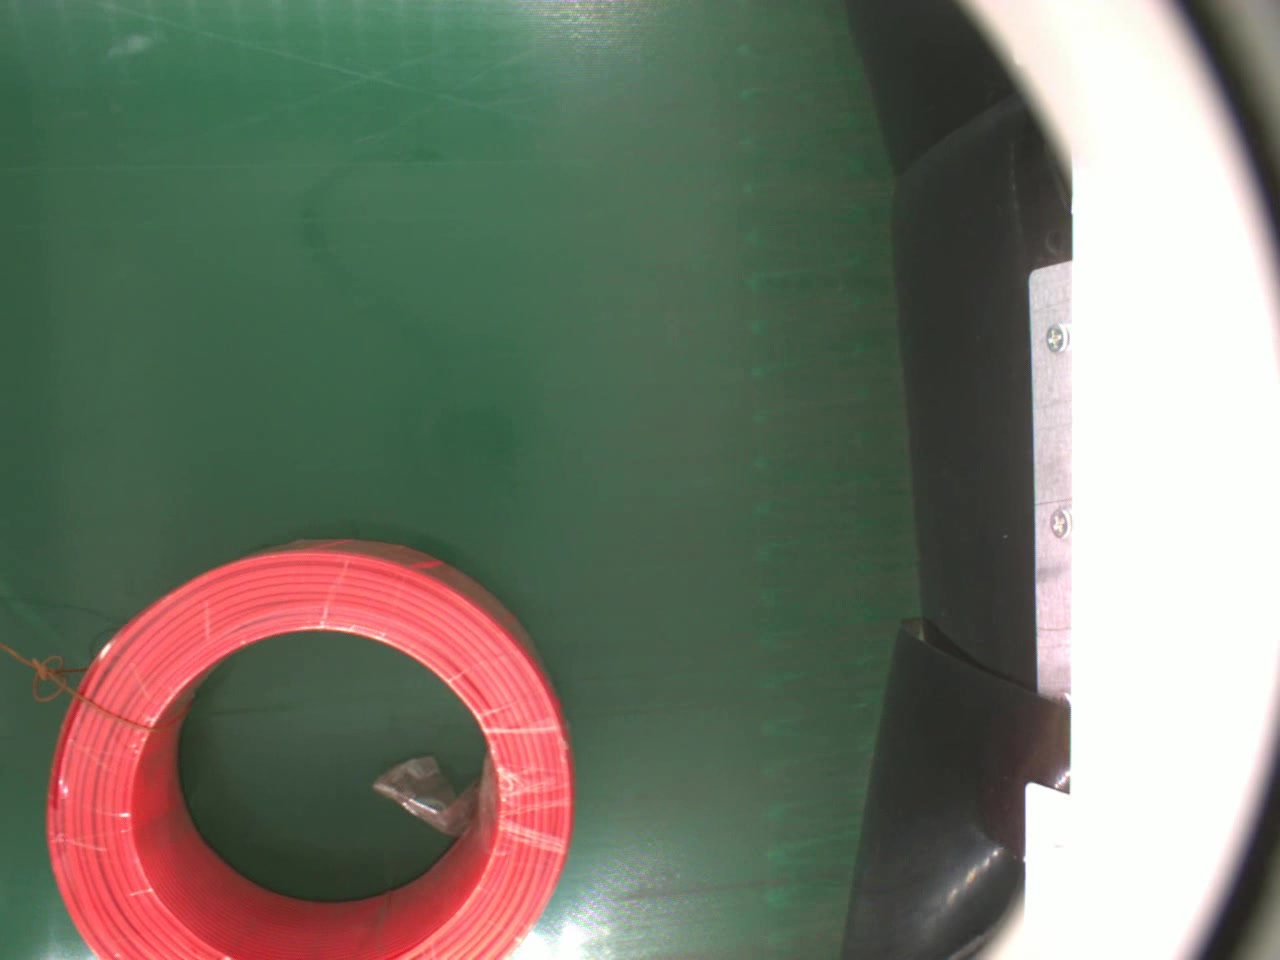red: (40, 532, 570, 960)
